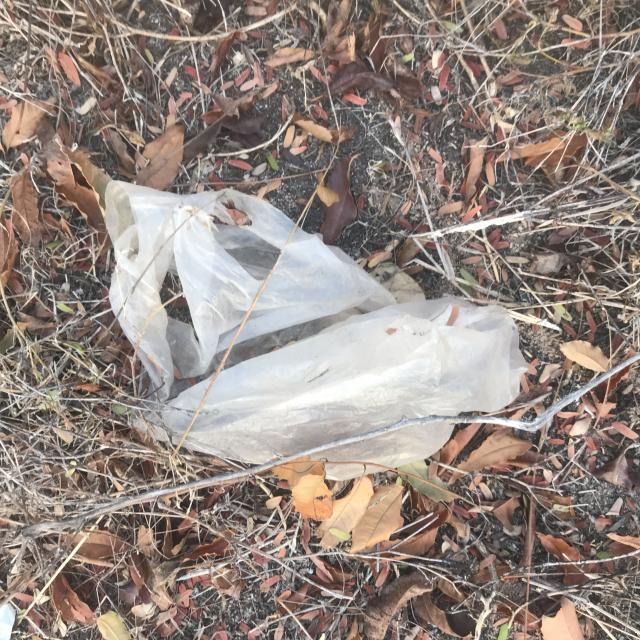Single-layer Plastic: (105, 181, 525, 462)
